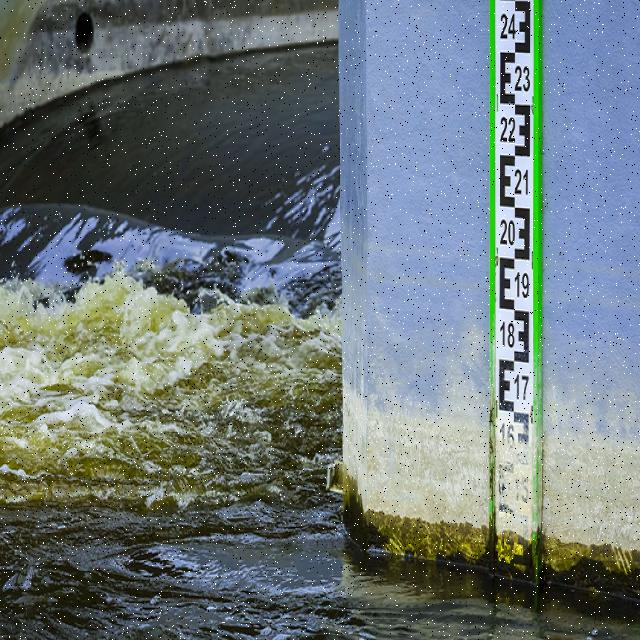staff: (494, 0, 532, 450)
